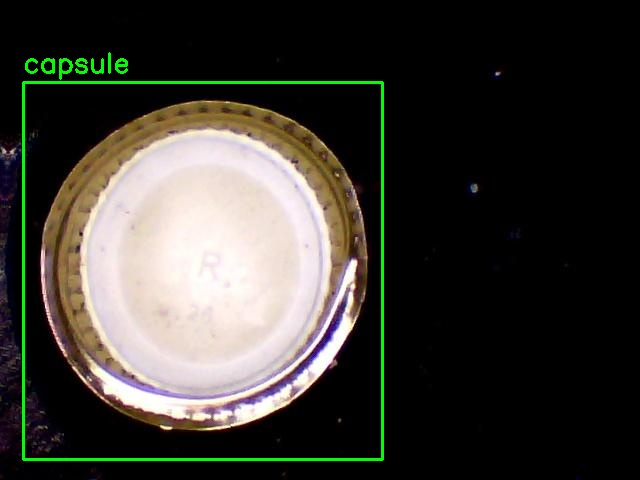capsule: (23, 82, 382, 459)
